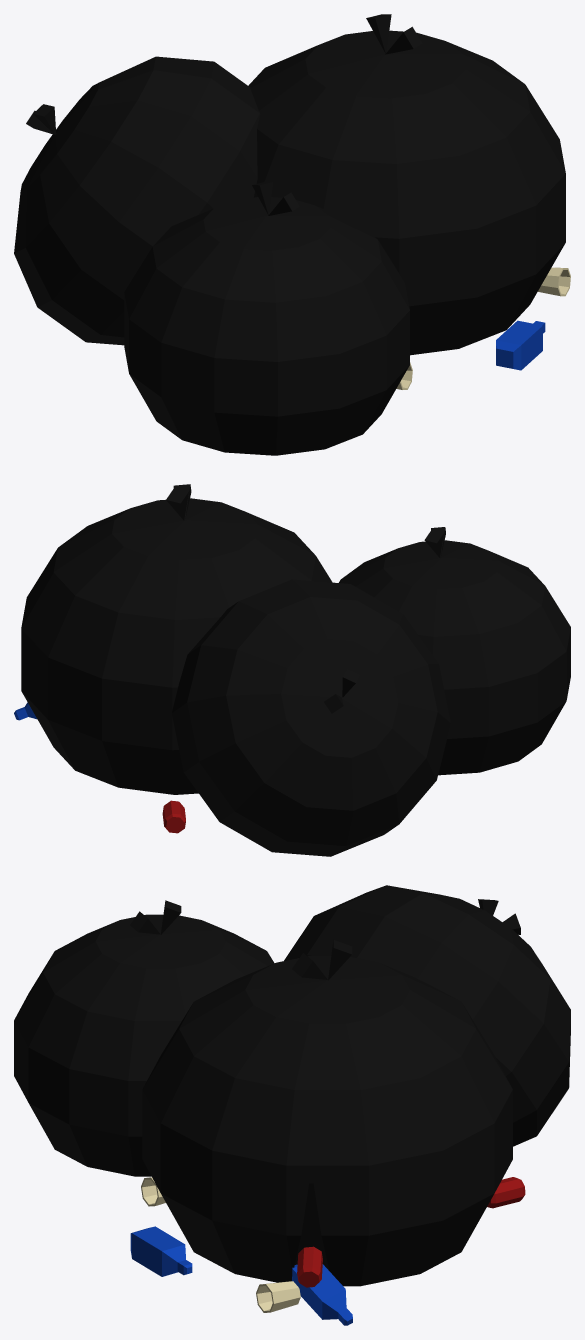
Rendered from Big_trash.fbx.
3 views of the same model, one above another, from view 1: azimuth 30°, elevation 25°; view 2: azimuth 150°, elevation 25°; view 3: azimuth 270°, elevation 25° (orthographic). The views are drawn at different scales.
Parts seen in each view (by area): view 1: Big_trash; view 2: Big_trash; view 3: Big_trash.
Boxes of the visible parts, x1,y1,x2,y2 form: Big_trash: (14,14,570,455); Big_trash: (14,484,570,856); Big_trash: (14,885,570,1325).
Size of the model in its own units: 2.74 by 1.59 by 2.59.
